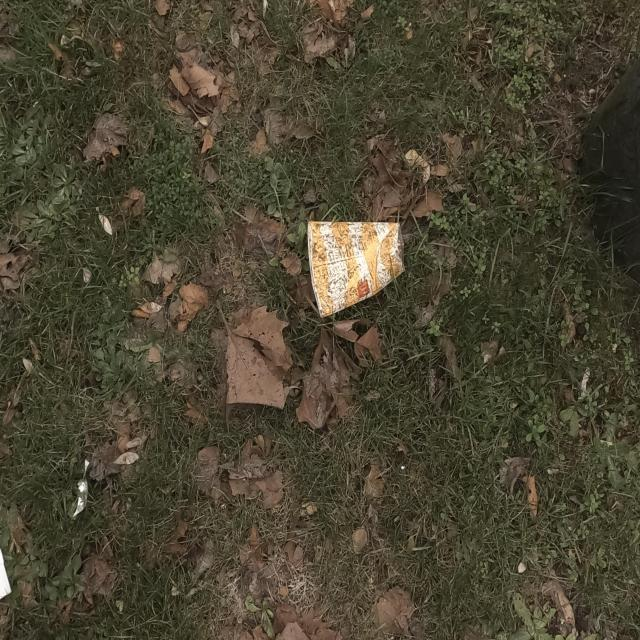Cup: (306, 218, 406, 318)
